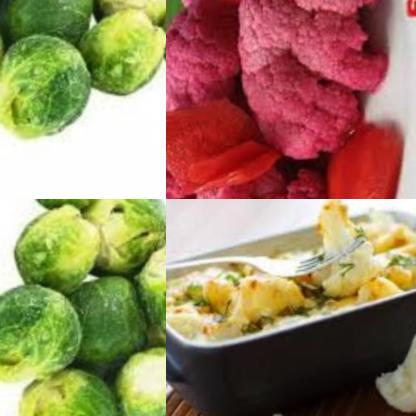brus capusta: (0, 199, 166, 416), (0, 0, 166, 154)
cayliflower: (166, 199, 416, 351), (229, 0, 397, 167), (166, 0, 264, 118), (373, 310, 416, 416), (229, 403, 309, 416)
